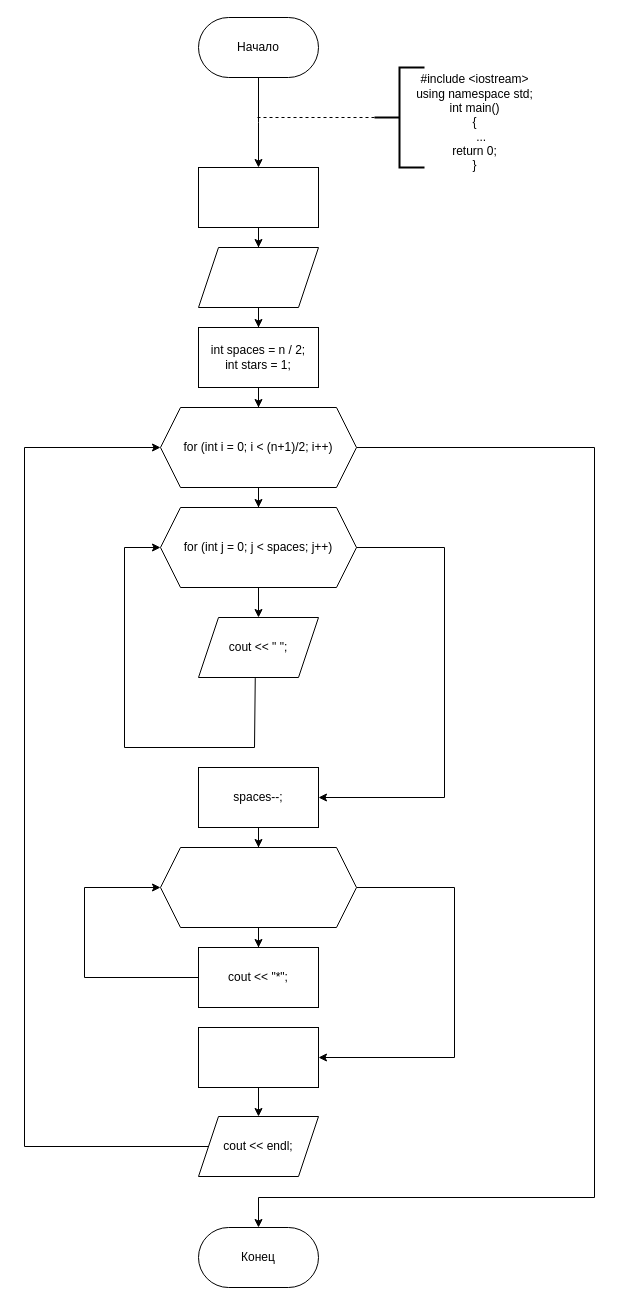
Image size: 620x1305. Some labels were removed from this diagram. Here are the shapes that lost their labels. From the top down, the box of each, then its label:
(198, 166, 318, 228): int n;
(198, 246, 318, 308): cin >> n;
(160, 846, 356, 928): for (int j = 0; j < stars; j++)
(198, 1026, 318, 1088): stars += 2;
